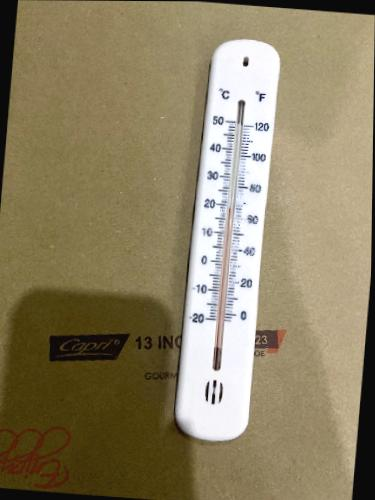thermo: (169, 34, 286, 446)
